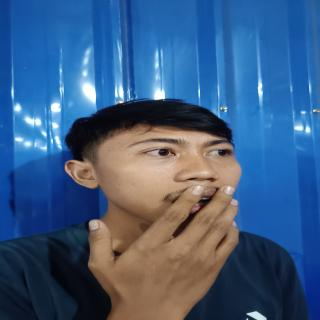Takut: (88, 121, 243, 232)
